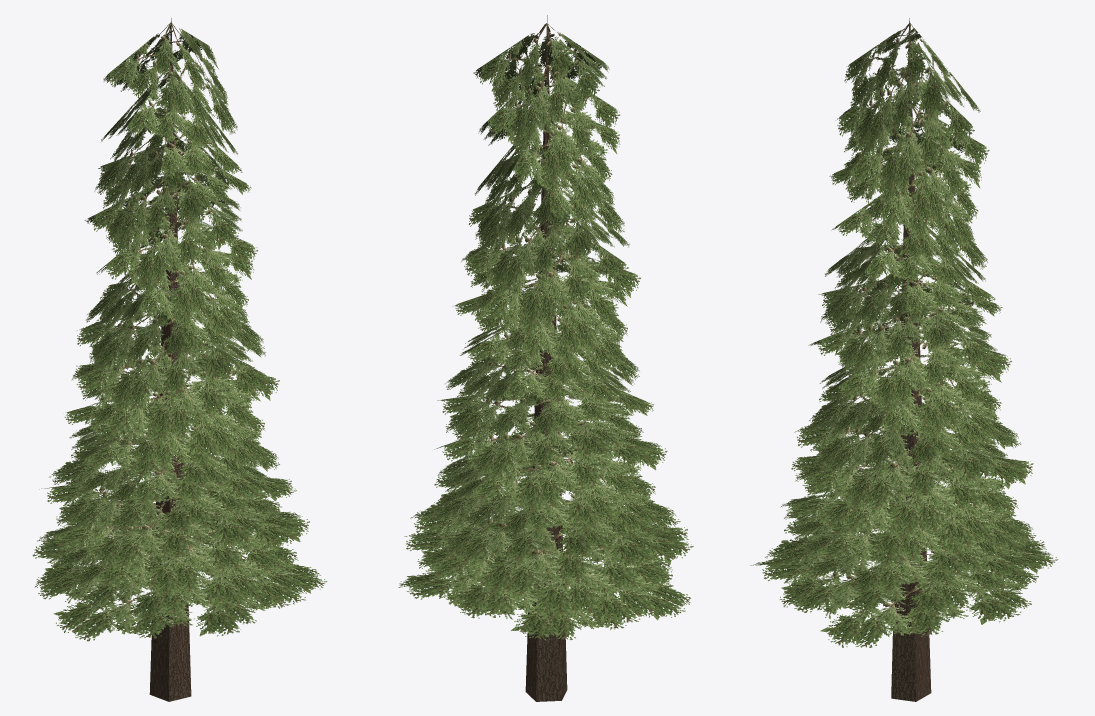
The model's file is pine_tree.glb.
The picture shows the model from 3 angles, left to right: view 1: azimuth 30°, elevation 25°; view 2: azimuth 150°, elevation 25°; view 3: azimuth 270°, elevation 25°; orthographic projection.
Visible parts, largest first — view 1: Cone; view 2: Cone; view 3: Cone.
Part boxes in pixels (x1=…): Cone: x1=32, y1=18, x2=327, y2=701; Cone: x1=398, y1=15, x2=693, y2=701; Cone: x1=750, y1=18, x2=1058, y2=701.
Bounding box in the file's own units: 7.39 × 16.95 × 7.8.
2 materials, 2 textured.
